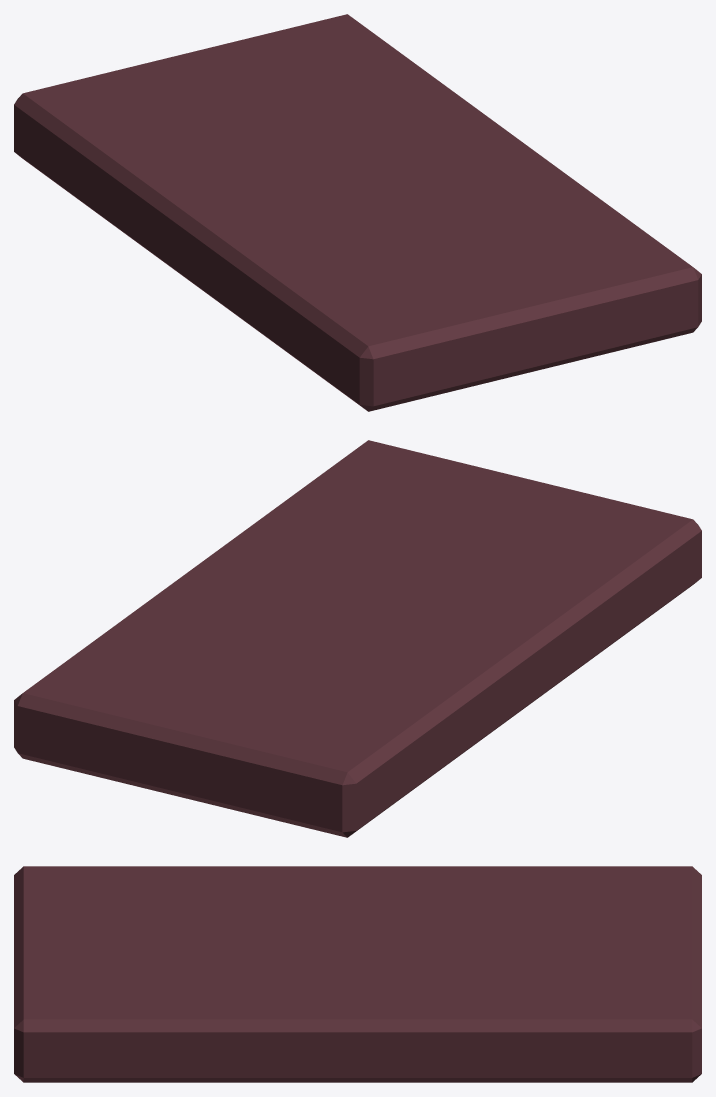
The model's file is mattress-small.fbx.
The picture shows the model from 3 angles, top to bottom: view 1: azimuth 30°, elevation 25°; view 2: azimuth 150°, elevation 25°; view 3: azimuth 270°, elevation 25°; orthographic projection. The views are drawn at different scales.
Visible parts, largest first — view 1: mattress-small; view 2: mattress-small; view 3: mattress-small.
Part boxes in pixels (<box>): mattress-small: <box>14,14,701,411</box>; mattress-small: <box>14,440,701,837</box>; mattress-small: <box>14,866,701,1082</box>.
Bounding box in the file's own units: 1 × 0.1829 × 1.8.
